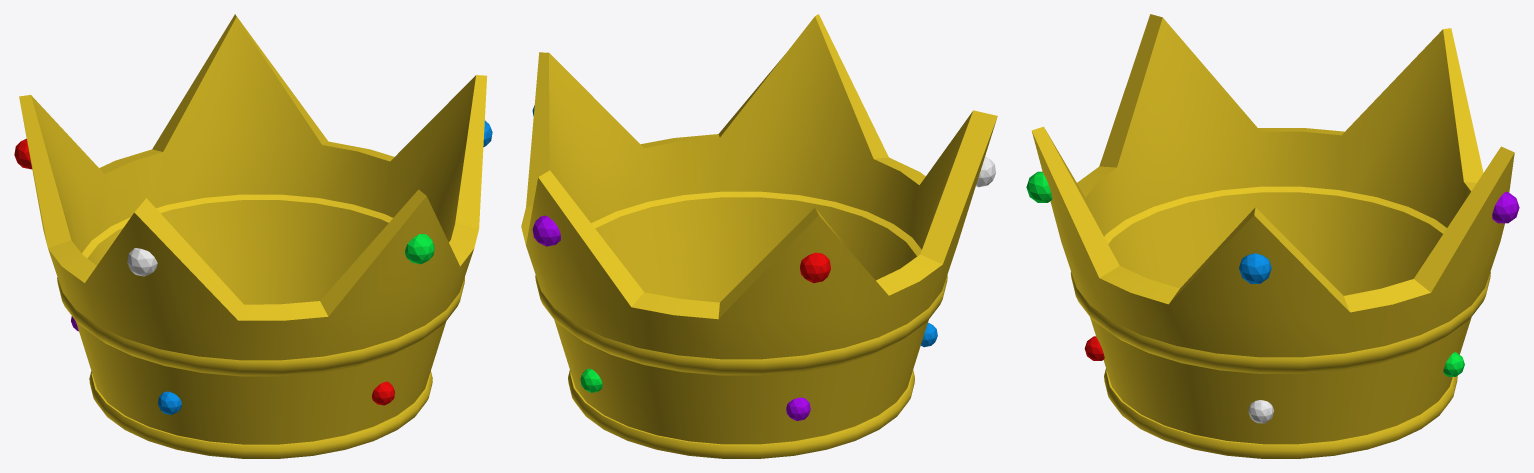
The model's file is Crown.fbx.
3 views of the same model, side by side, from view 1: azimuth 30°, elevation 25°; view 2: azimuth 150°, elevation 25°; view 3: azimuth 270°, elevation 25° (orthographic). The views are drawn at different scales.
Parts seen in each view (by area): view 1: Crown; view 2: Crown; view 3: Crown.
Boxes of the visible parts, <box> form: Crown: <box>14,14,492,458</box>; Crown: <box>521,14,997,458</box>; Crown: <box>1026,14,1519,458</box>.
Bounding box in the file's own units: 283 × 182 × 288.
